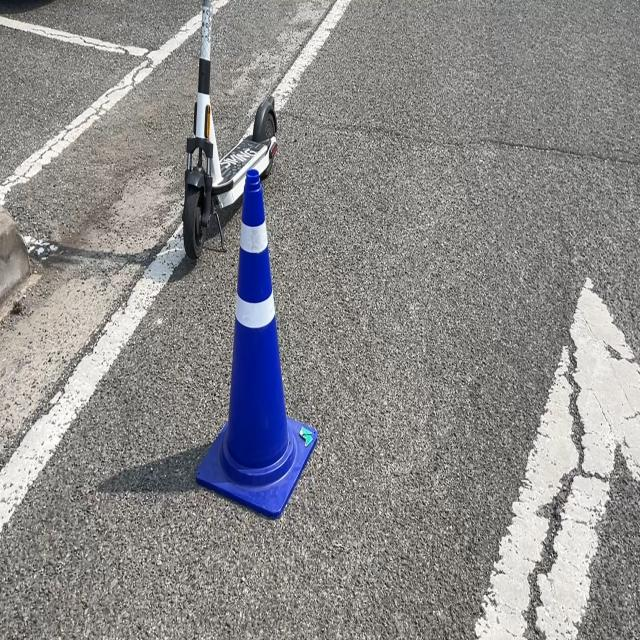b_rub: (196, 168, 317, 517)
